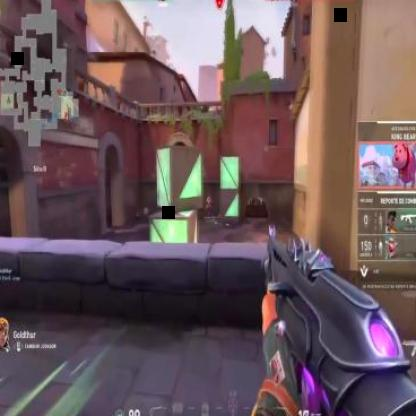enemy: (204, 192, 212, 217)
enemy_head: (208, 192, 210, 198)
